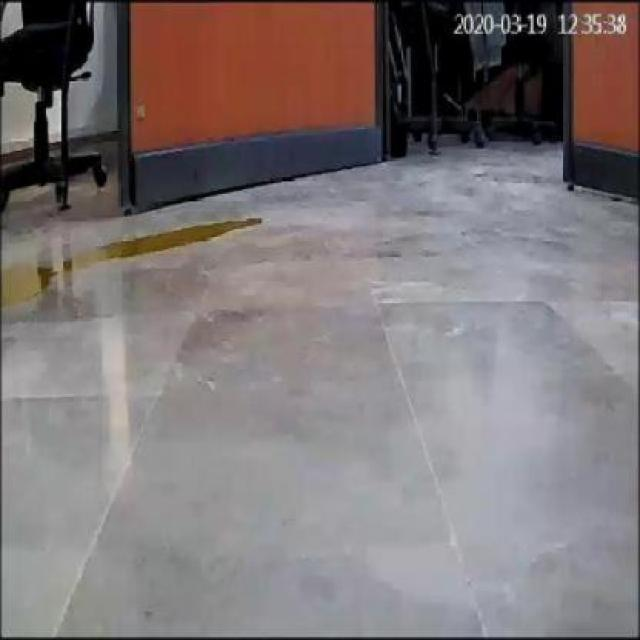spillage: (71, 218, 262, 274), (4, 266, 53, 306)
